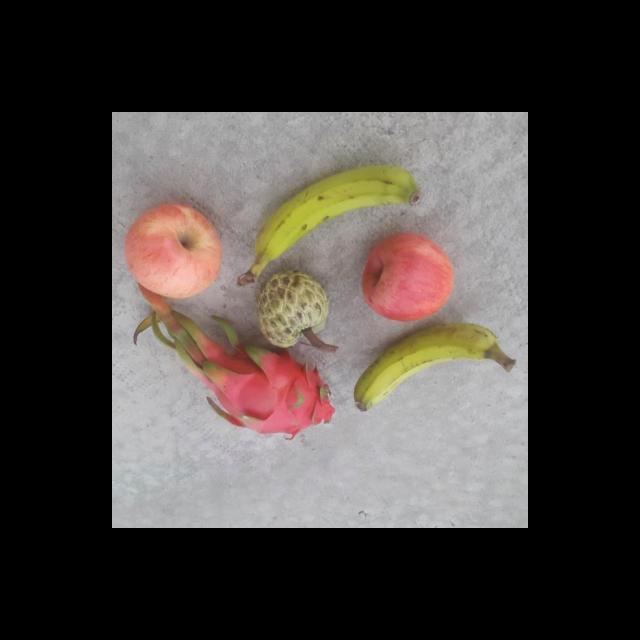Sakya fruit: (256, 269, 334, 352)
apple: (119, 200, 225, 304), (360, 229, 458, 322)
banana: (236, 162, 421, 287), (354, 316, 516, 414)
pitaya: (202, 342, 352, 442)
